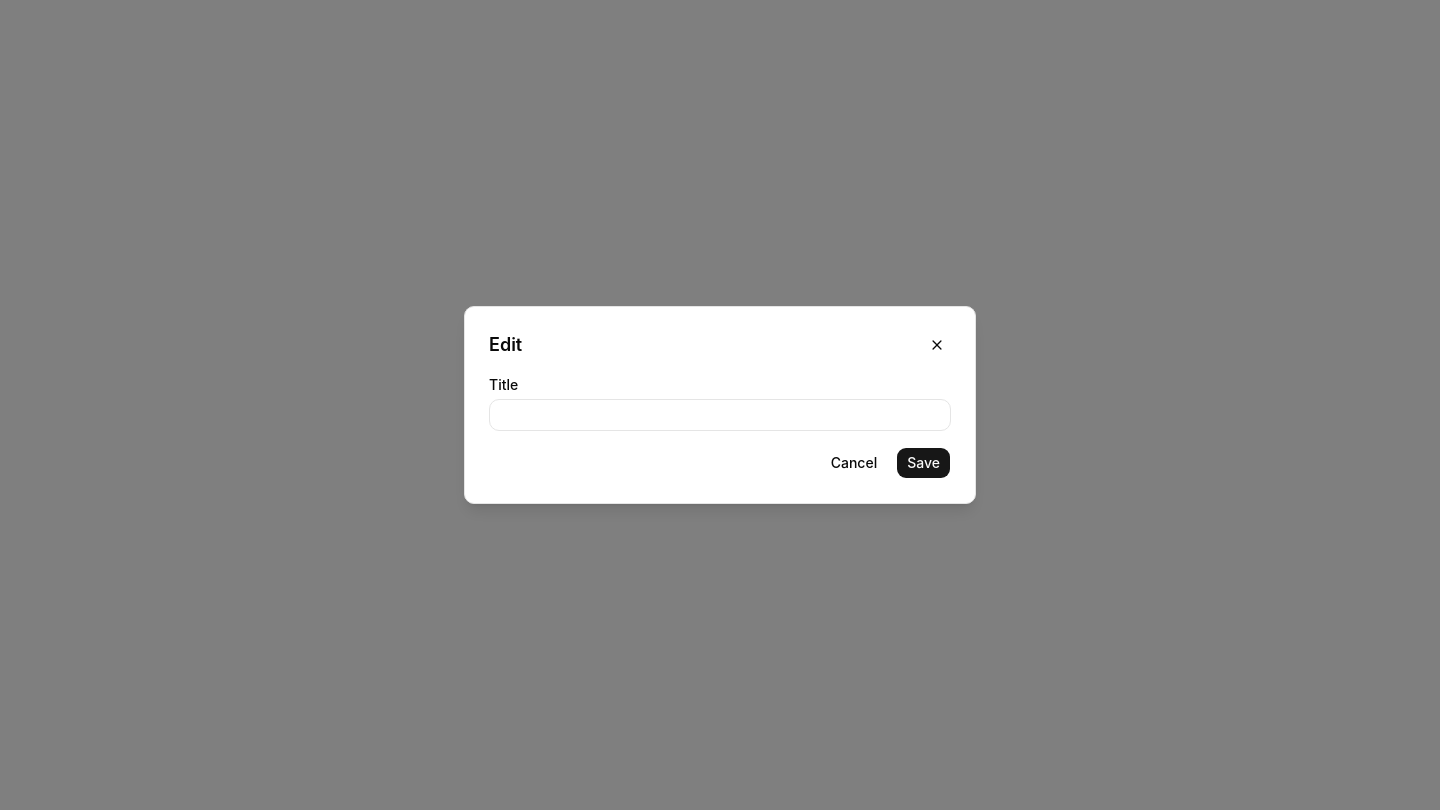
Test: EditDialog › shows error message on failed save
Click the button "Save" at point(924, 463), box [896,447,951,479]
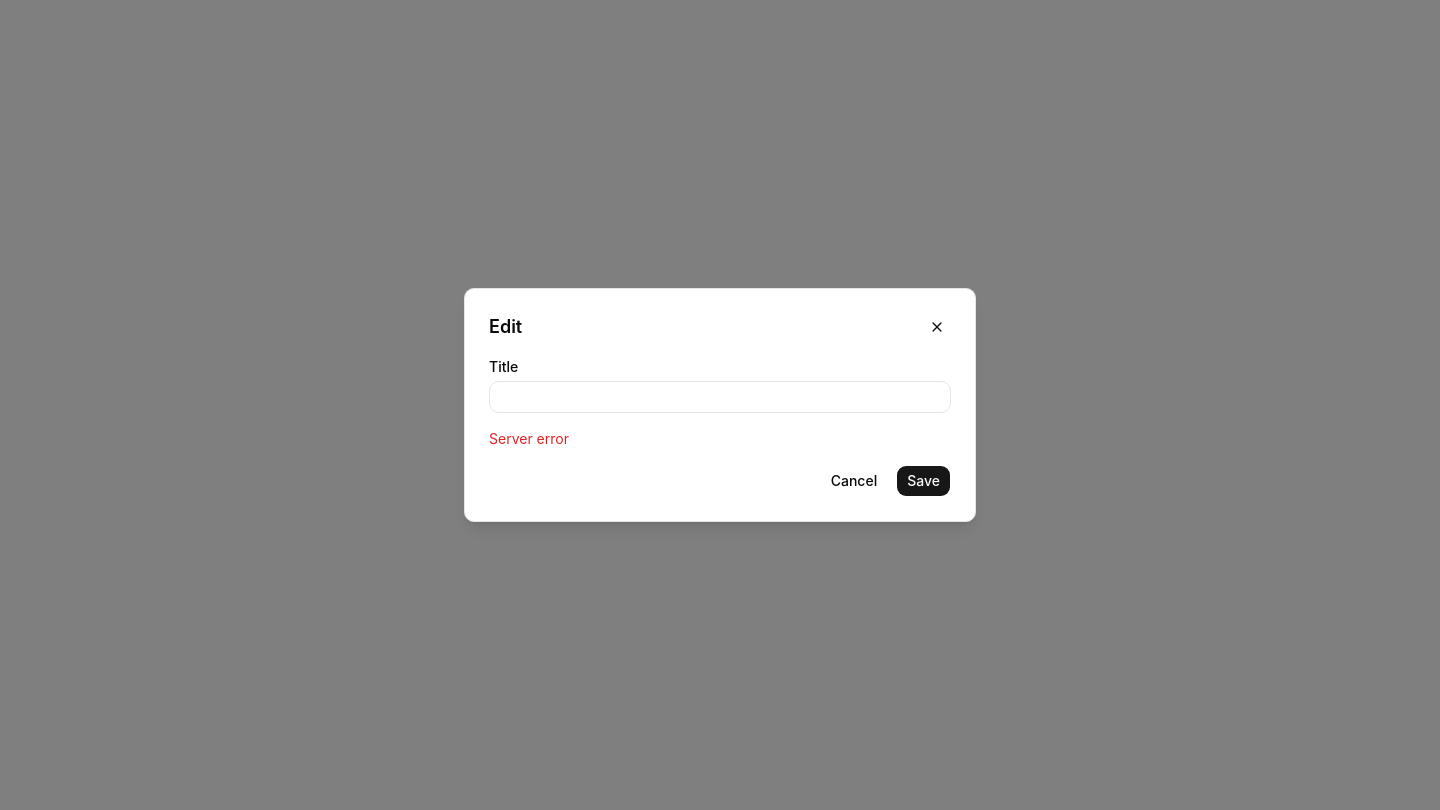
expect the text "Server error" is shown: met, box [489,430,569,447]
